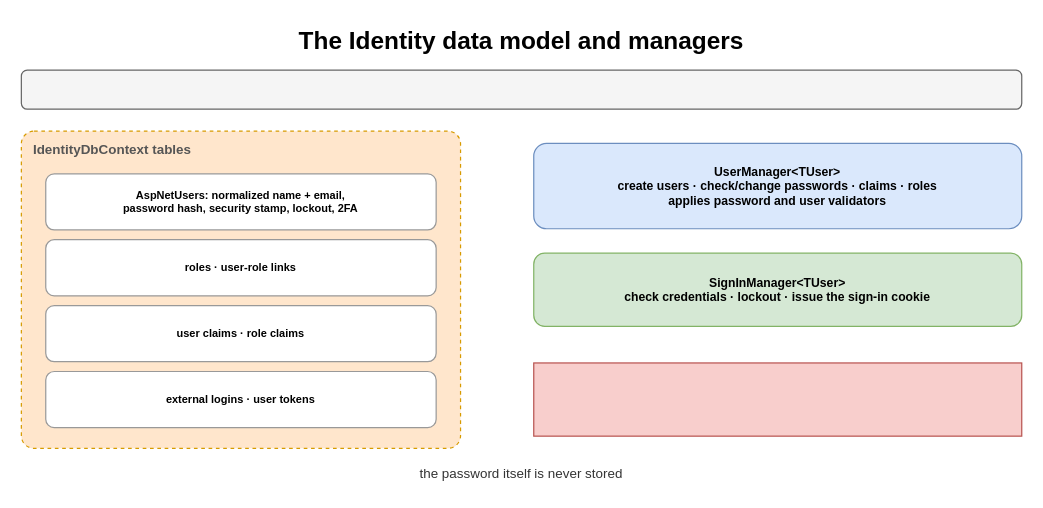
Image size: 1043x508. Some labels were removed from this diagram. Each missing label, with the centre of its shape:
POST /users {"password":"short"} RequiredLength = 10 → 400 with validator errors: (777,399)
Work through the managers, not the tables: (521,89)
